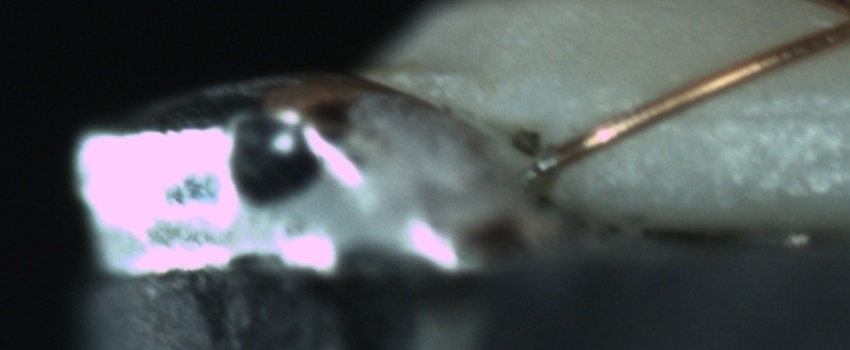DL: (677, 80, 849, 147)
